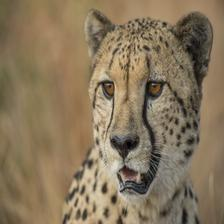Cheetah: (60, 8, 216, 222)
